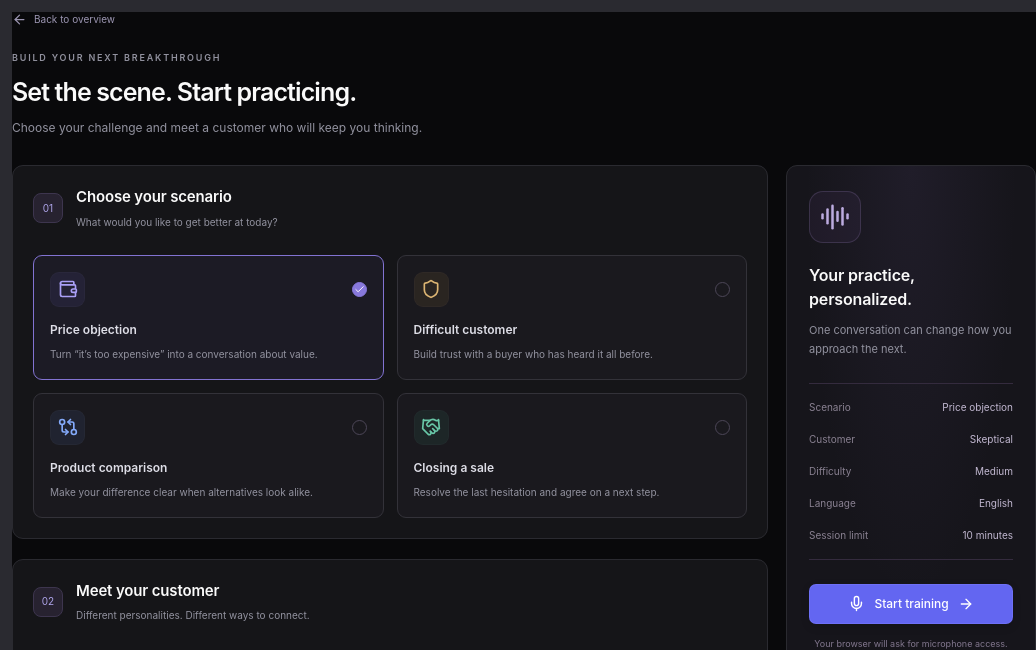
real-data pages › shows microphone permission errors without creating a session
Step 1. Click the button "Start training" → (911, 604), box x1=809 y1=584 x2=1013 y2=624
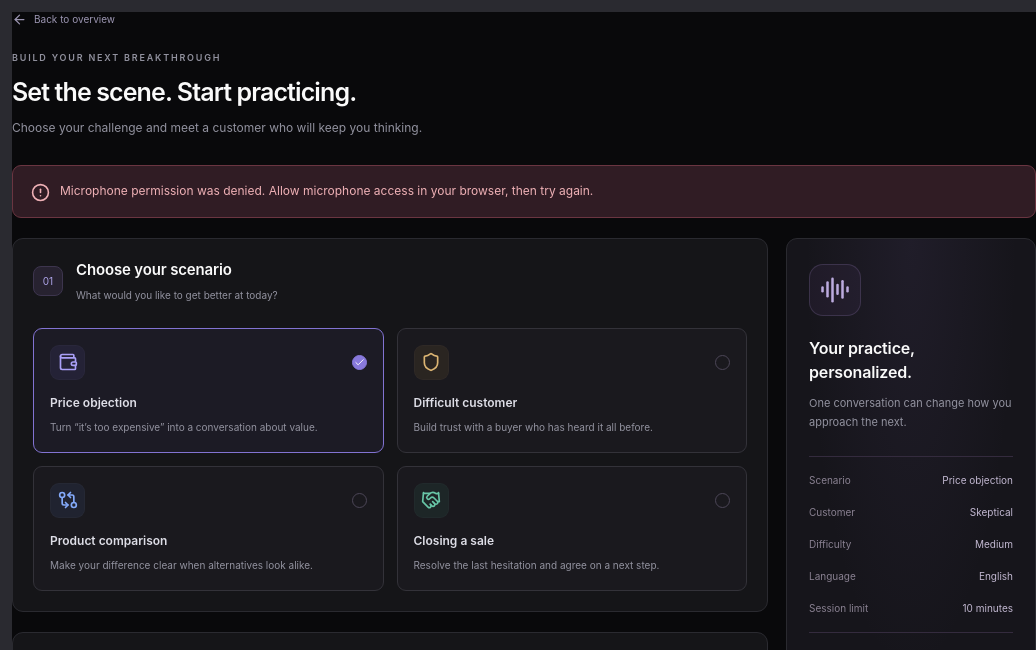
expect the message shows "Microphone permission was denied": met, box x1=60 y1=183 x2=593 y2=198
